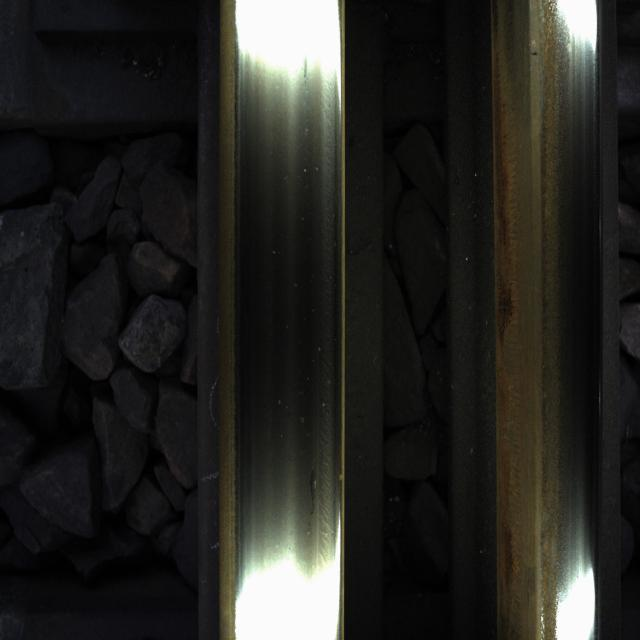break: (244, 48, 331, 590)
